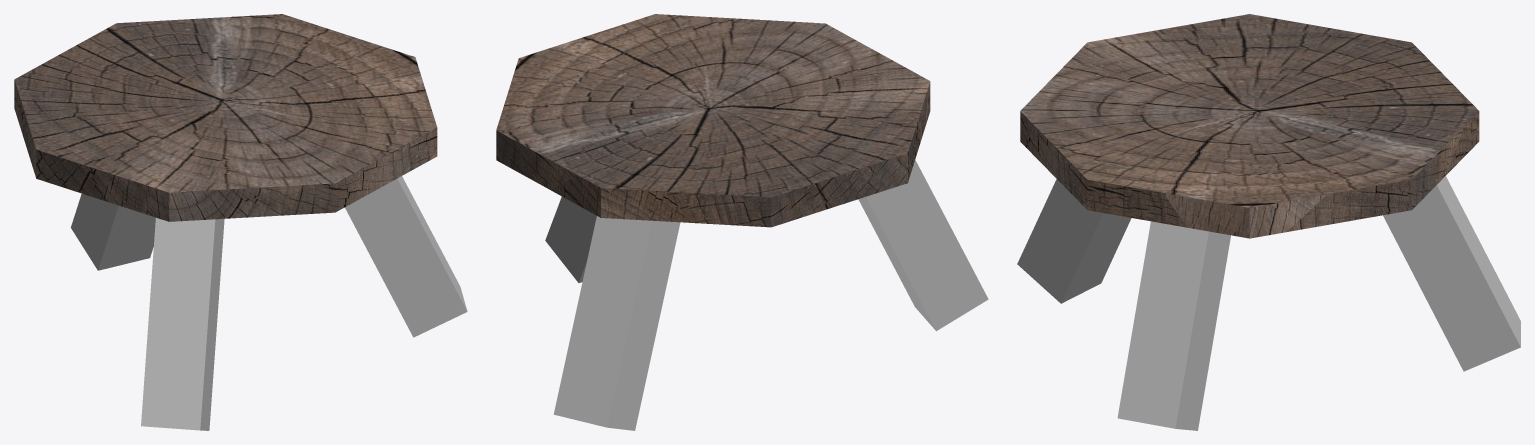
File: Stool.fbx
The picture shows the model from 3 angles, left to right: view 1: azimuth 30°, elevation 25°; view 2: azimuth 150°, elevation 25°; view 3: azimuth 270°, elevation 25°; orthographic projection. The views are drawn at different scales.
Parts seen in each view (by area): view 1: pCylinder9; view 2: pCylinder9; view 3: pCylinder9.
Boxes of the visible parts, x1,y1,x2,y2 form: pCylinder9: [14, 14, 467, 430]; pCylinder9: [496, 14, 988, 430]; pCylinder9: [1017, 14, 1520, 430].
Size of the model in its own units: 18.48 by 10.71 by 19.77.
